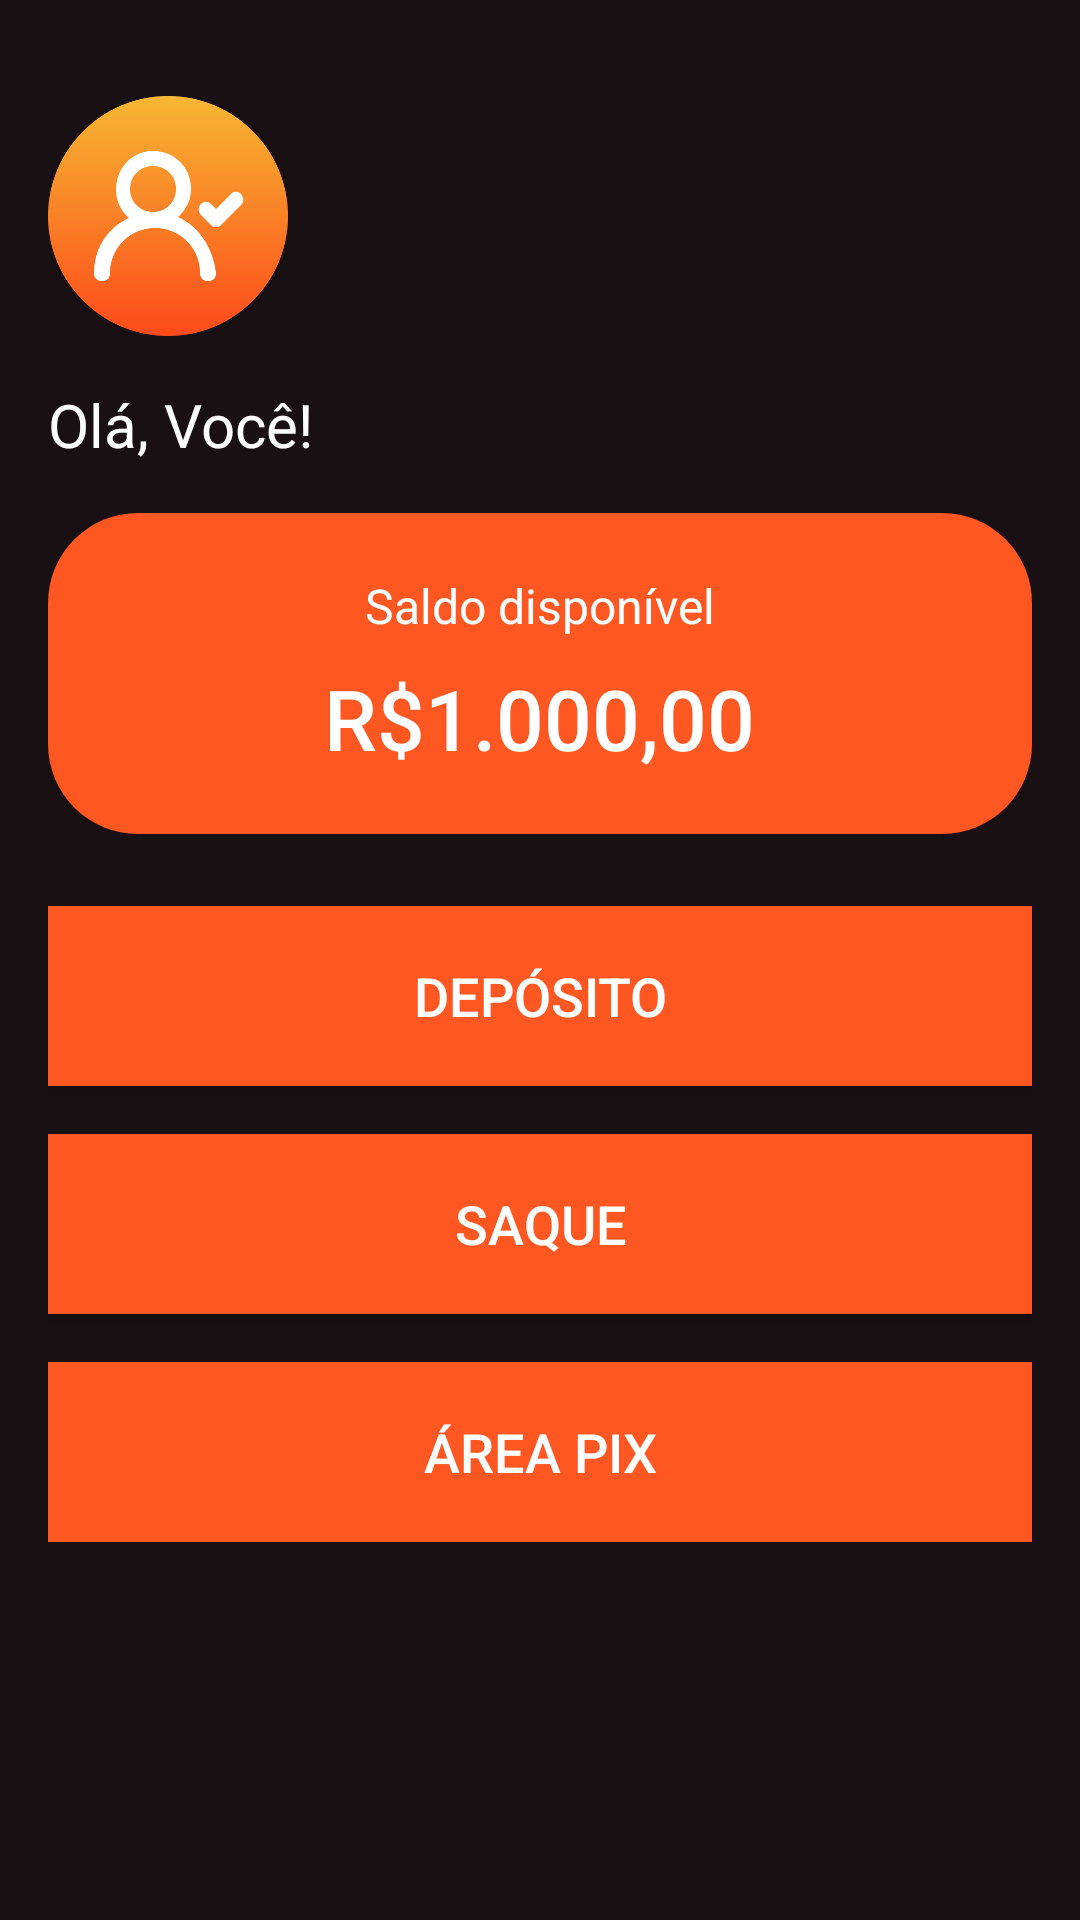

Screen size 1080 × 1920. Icon name, then its center in pixels as (x=x, y=y):
account: (x=168, y=216)
